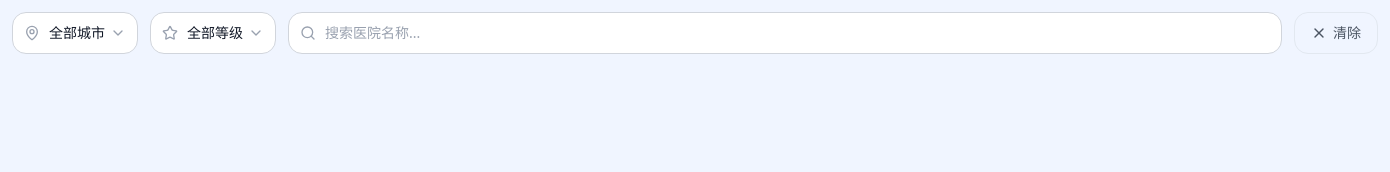
HospitalFilter › should show clear keyword button when keyword input has value
In the field with placeholder "搜索医院名称...": (785, 33) [288,12,1282,54], type "协和"
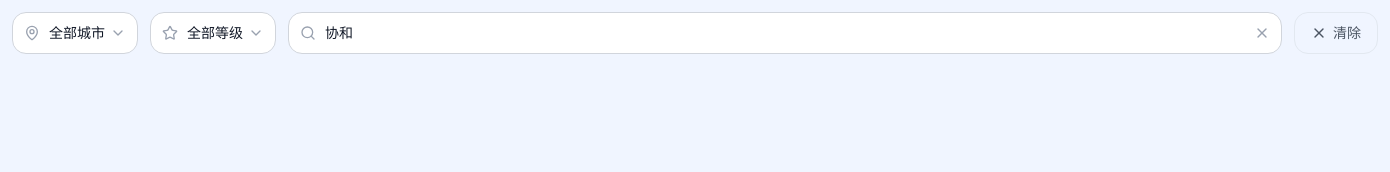
Now the 3rd button with class "right-3" is shown, box [1254,25,1270,41]
